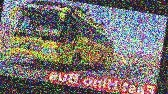bus: (7, 0, 118, 77)
